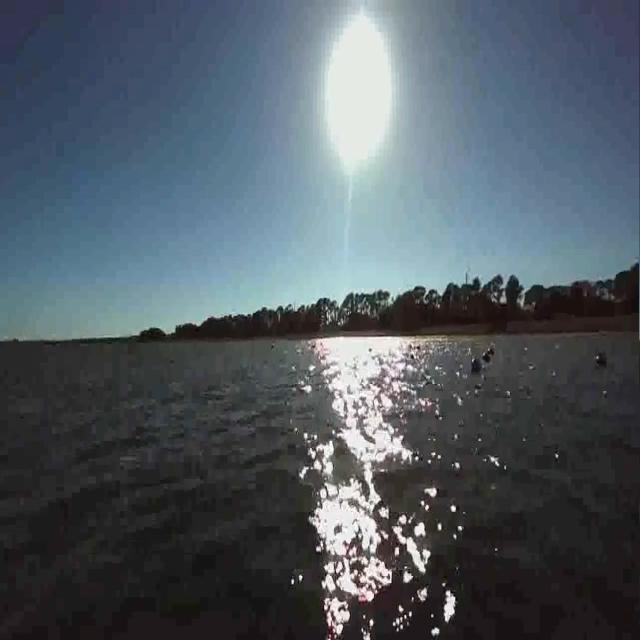blue-buoy: (470, 356, 481, 374)
